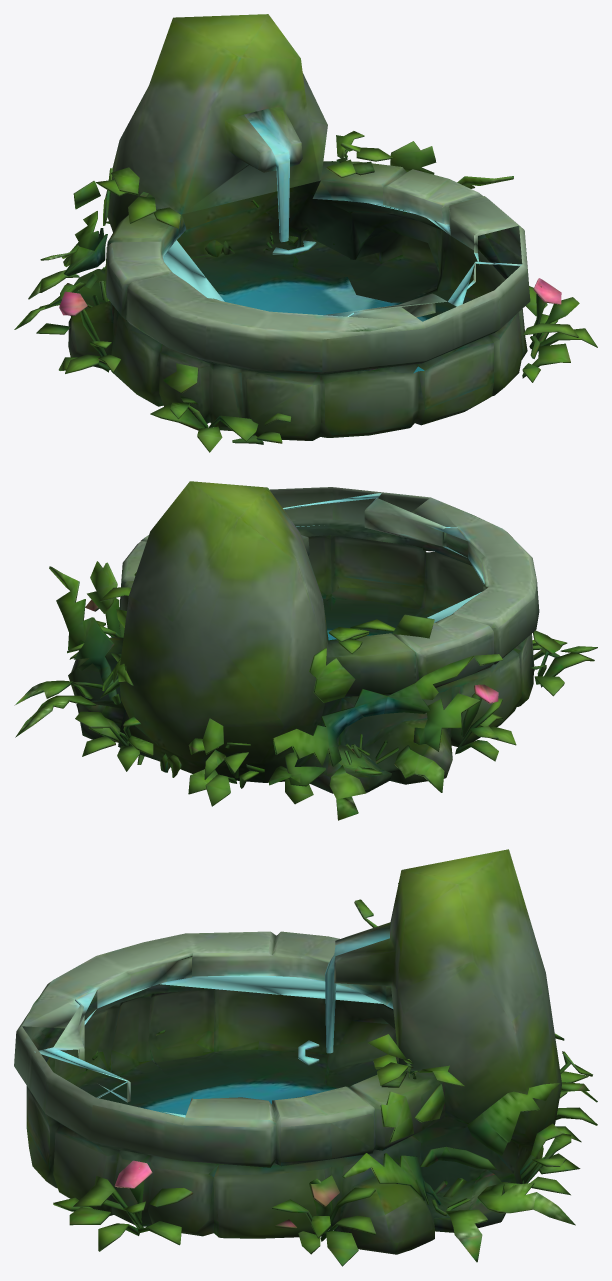
The model's file is spring.glb.
3 views of the same model, one above another, from view 1: azimuth 30°, elevation 25°; view 2: azimuth 150°, elevation 25°; view 3: azimuth 270°, elevation 25° (orthographic). The views are drawn at different scales.
Parts seen in each view (by area): view 1: spring; view 2: spring; view 3: spring.
Boxes of the visible parts, <box> form: spring: <box>14,14,597,452</box>; spring: <box>14,481,597,820</box>; spring: <box>14,849,597,1266</box>.
Bounding box in the file's own units: 0.998 × 0.5499 × 0.9883.
Materials: 1 (1 with a texture image).
